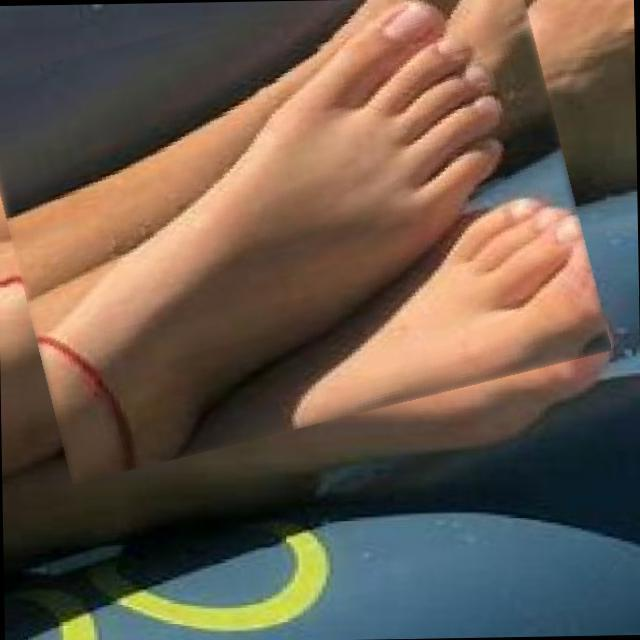No_Shoes: (184, 172, 626, 478), (0, 0, 488, 236)
